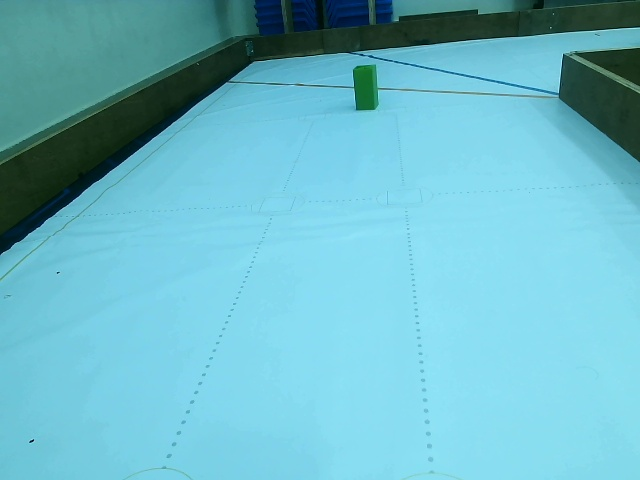green: (354, 65, 379, 111)
